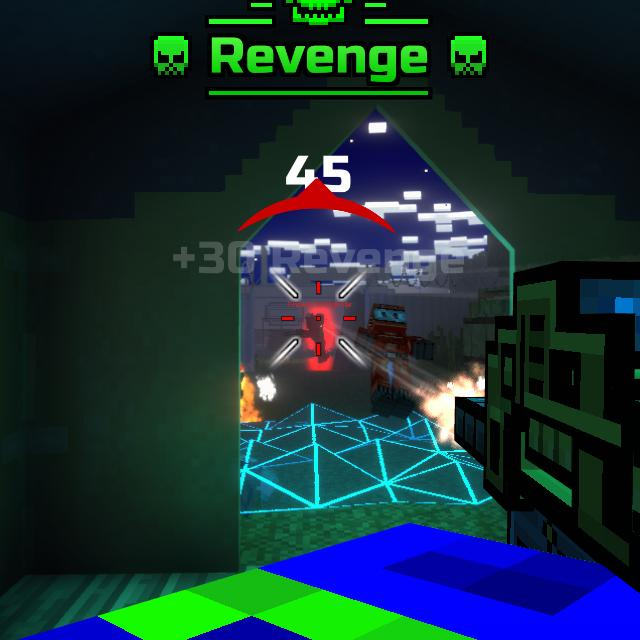Enemy: (301, 313, 326, 364)
